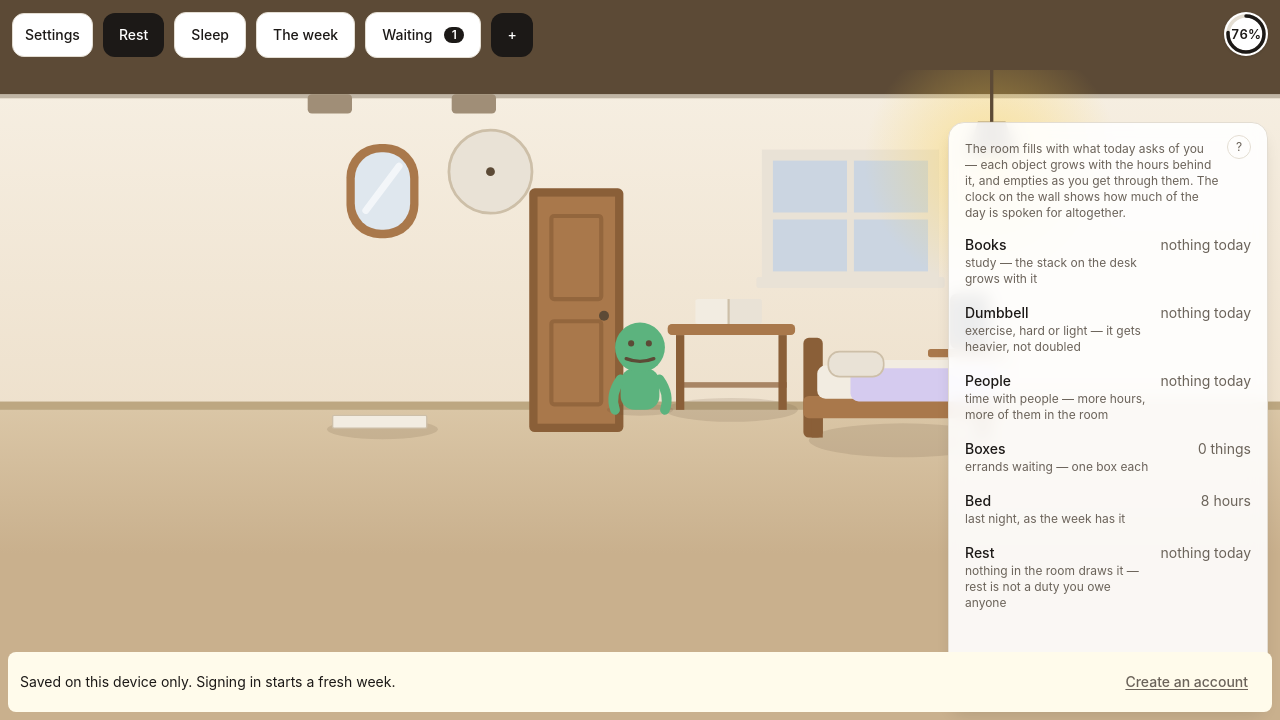
Test case: the sleep page › opens on a tap
Click the button with test id "open-sleep": (210, 35) [174, 12, 246, 58]
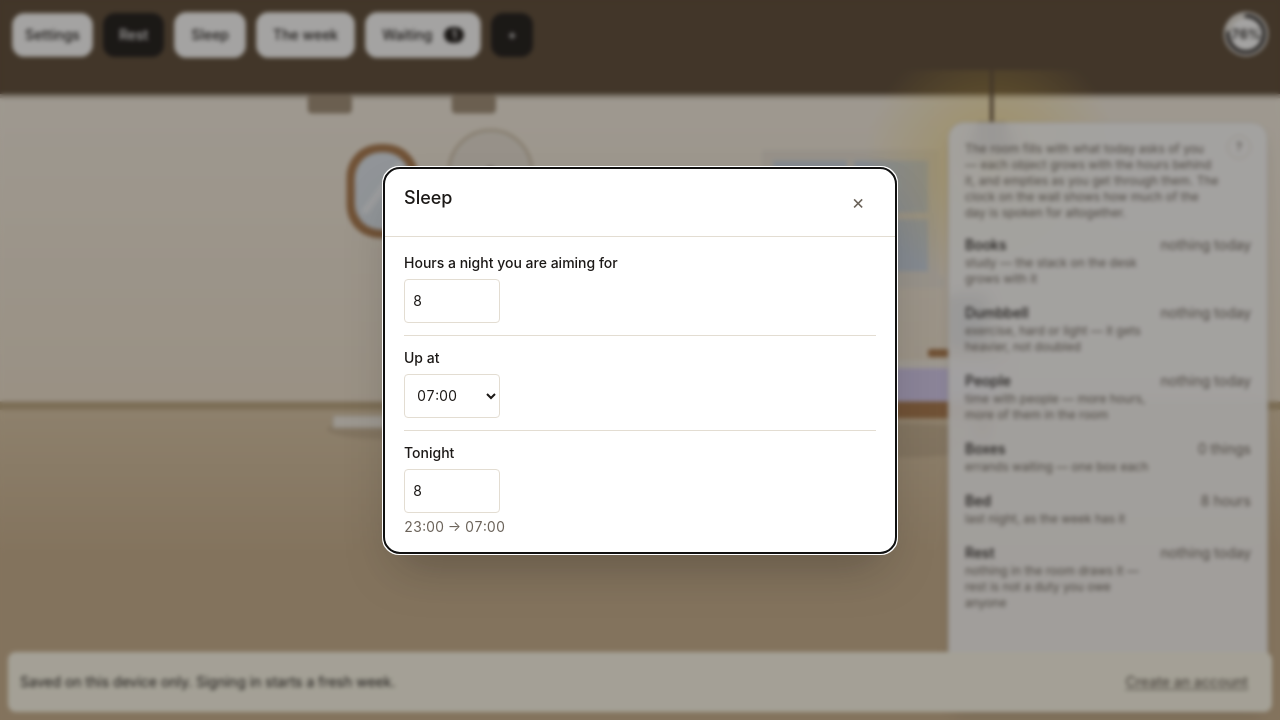
Result: the number field with test id "sleep-target" is shown at [404, 278, 500, 322]
